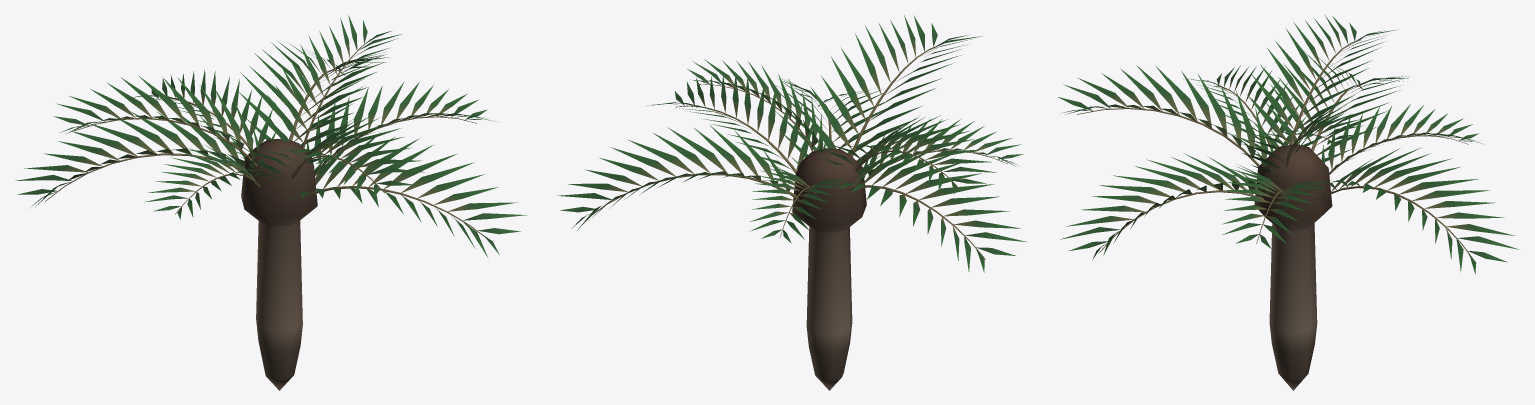
Rendered from trees-palms-ferns-date-palm_v2.fbx.
3 views of the same model, side by side, from view 1: azimuth 30°, elevation 25°; view 2: azimuth 150°, elevation 25°; view 3: azimuth 270°, elevation 25° (orthographic). The views are drawn at different scales.
Visible parts, largest first — view 1: Date Palm_v2; view 2: Date Palm_v2; view 3: Date Palm_v2.
Part boxes in pixels (x1,y1,x2,y2): Date Palm_v2: (15, 15, 526, 390); Date Palm_v2: (557, 15, 1027, 390); Date Palm_v2: (1058, 15, 1518, 390).
Size of the model in its own units: 8 by 5.86 by 7.76.
